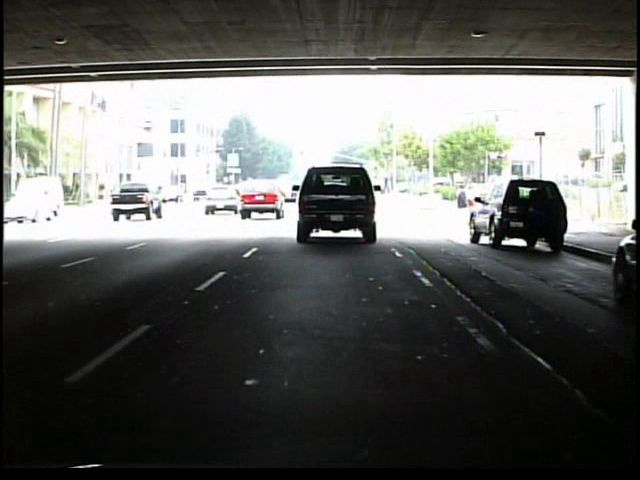person: (454, 182, 468, 214), (465, 186, 475, 209)
